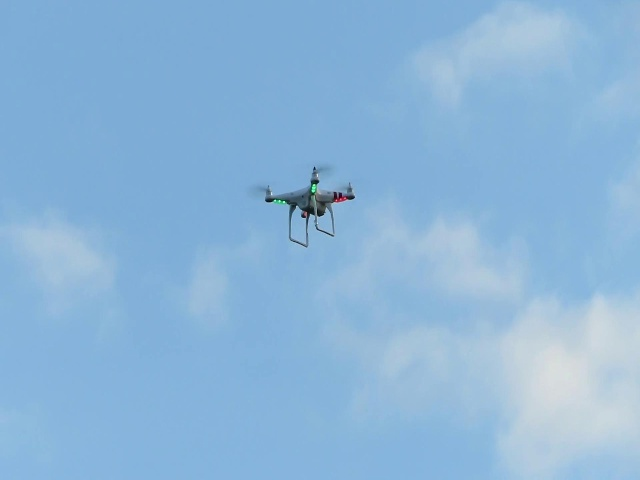drone: (251, 159, 362, 249)
